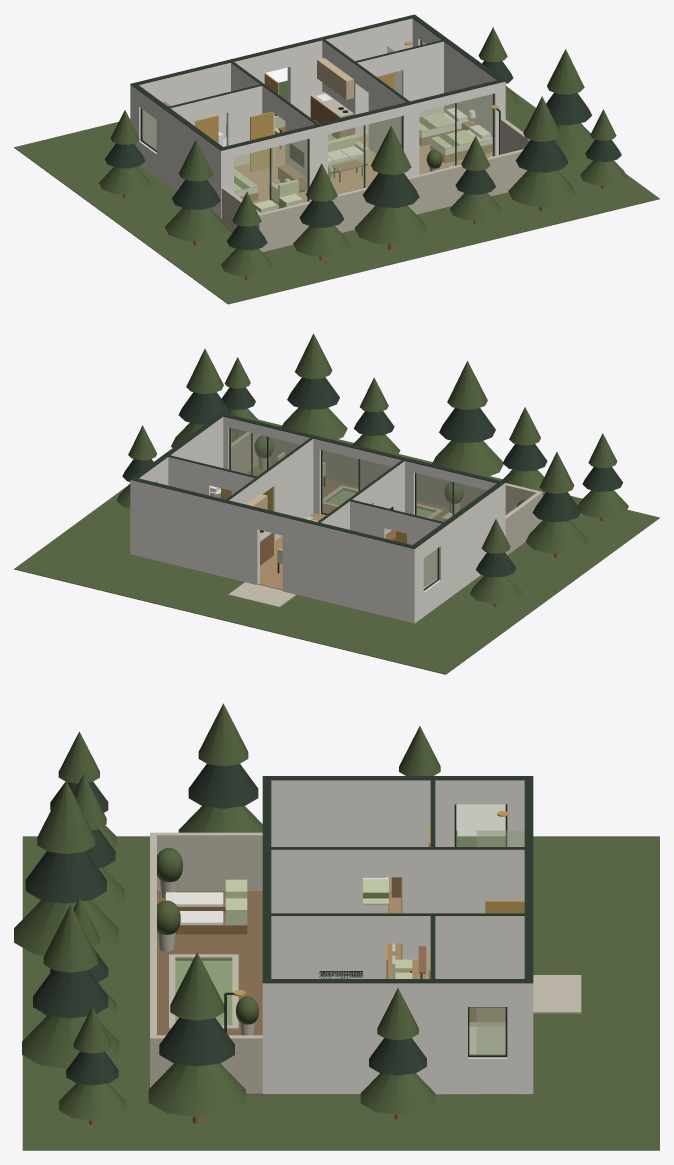
Rendered from phong-villa.glb.
The picture shows the model from 3 angles, top to bottom: view 1: azimuth 30°, elevation 25°; view 2: azimuth 150°, elevation 25°; view 3: azimuth 270°, elevation 25°; orthographic projection. The views are drawn at different scales.
Parts seen in each view (by area): view 1: Biet thu; view 2: Biet thu; view 3: Biet thu.
Part boxes in pixels (bbox=[...]): Biet thu: bbox=[14, 14, 659, 304]; Biet thu: bbox=[14, 333, 659, 674]; Biet thu: bbox=[14, 703, 659, 1150].
Bounding box in the file's own units: 17 × 4.92 × 14.8.
